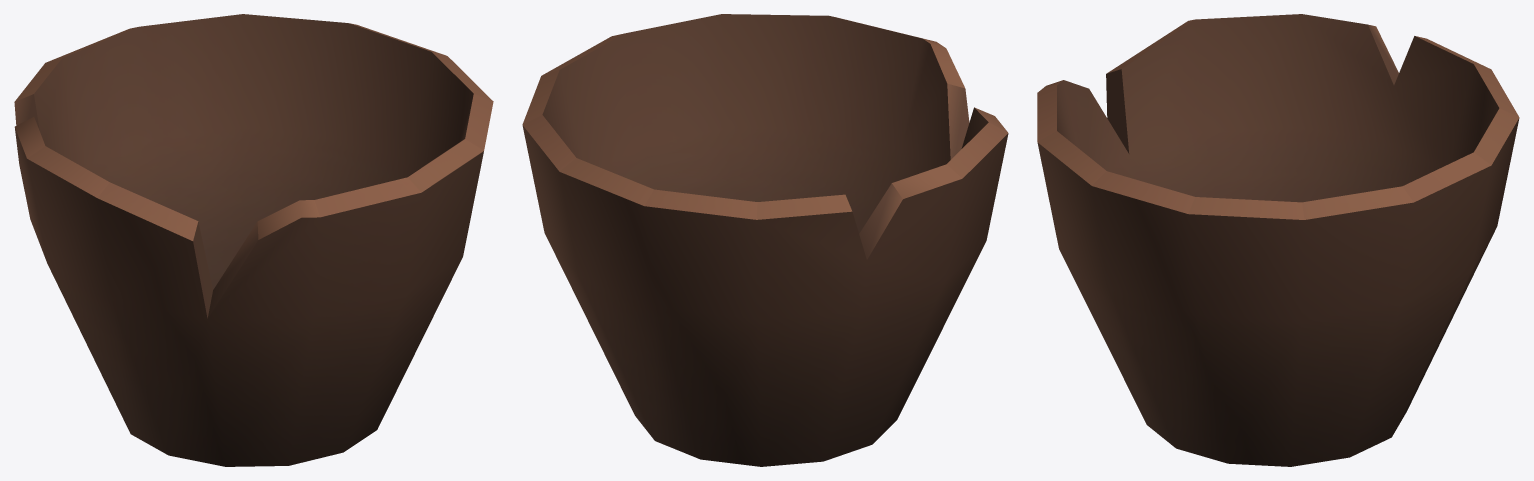
File: Clay_Dish_1B.fbx
The picture shows the model from 3 angles, left to right: view 1: azimuth 30°, elevation 25°; view 2: azimuth 150°, elevation 25°; view 3: azimuth 270°, elevation 25°; orthographic projection.
Visible parts, largest first — view 1: Clay_Dish_1B; view 2: Clay_Dish_1B; view 3: Clay_Dish_1B.
Boxes of the visible parts, left/top/right/bottom form: Clay_Dish_1B: left=14, top=14, right=493, bottom=466; Clay_Dish_1B: left=522, top=14, right=1008, bottom=466; Clay_Dish_1B: left=1037, top=14, right=1519, bottom=466.
Bounding box in the file's own units: 0.91 × 0.6274 × 0.9033.
